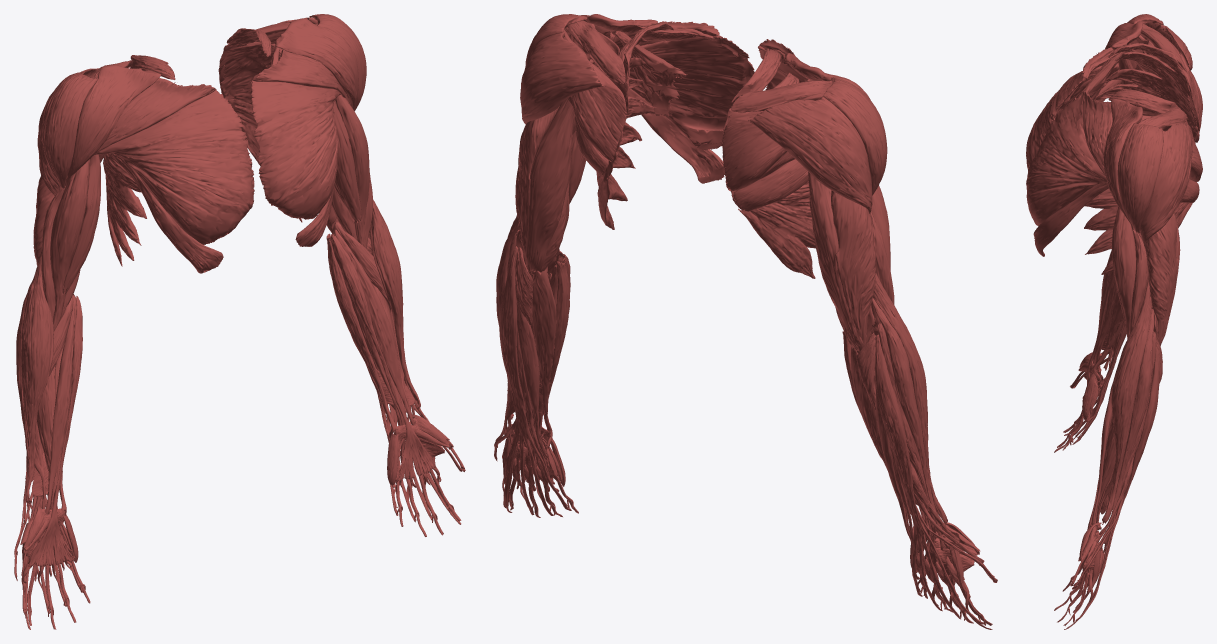
File: upper-limbs.glb
3 views of the same model, side by side, from view 1: azimuth 30°, elevation 25°; view 2: azimuth 150°, elevation 25°; view 3: azimuth 270°, elevation 25° (orthographic). The views are drawn at different scales.
Visible parts, largest first — view 1: FMA79979, FMA79980, FMA38486, FMA34680, FMA13399, FMA34682, FMA13398, FMA34681, FMA37686, FMA34690, FMA38464, FMA38487 (+21 smaller); view 2: FMA79980, FMA34684, FMA13398, FMA37700, FMA34685, FMA37697, FMA38501, FMA38502, FMA13399, FMA32547, FMA32548, FMA37699 (+30 smaller); view 3: FMA79980, FMA13398, FMA38487, FMA34683, FMA34685, FMA37698, FMA13399, FMA37687, FMA34681, FMA79979, FMA38496, FMA34691 (+28 smaller).
Boxes of the visible parts, x1,y1,x2,y2 form: FMA79979: [94, 90, 254, 244]; FMA79980: [250, 80, 340, 219]; FMA38486: [21, 249, 54, 505]; FMA34680: [66, 65, 161, 185]; FMA13399: [219, 28, 317, 222]; FMA34682: [42, 72, 97, 188]; FMA13398: [103, 55, 175, 266]; FMA34681: [275, 18, 358, 108]; FMA37686: [50, 160, 89, 330]; FMA34690: [96, 80, 216, 152]; FMA38464: [330, 233, 435, 482]; FMA38487: [369, 199, 420, 410]; FMA79980: [589, 35, 754, 150]; FMA34684: [748, 95, 872, 213]; FMA13398: [723, 48, 815, 278]; FMA37700: [525, 99, 574, 271]; FMA34685: [520, 32, 609, 124]; FMA37697: [831, 190, 876, 351]; FMA38501: [875, 334, 984, 624]; FMA38502: [499, 246, 571, 515]; FMA13399: [596, 23, 673, 229]; FMA32547: [722, 113, 786, 191]; FMA32548: [563, 29, 626, 161]; FMA37699: [808, 172, 863, 350]; FMA79980: [1026, 95, 1107, 226]; FMA13398: [1095, 43, 1197, 142]; FMA38487: [1102, 279, 1152, 524]; FMA34683: [1117, 123, 1163, 233]; FMA34685: [1140, 123, 1192, 244]; FMA37698: [1145, 213, 1178, 346]; FMA13399: [1084, 89, 1192, 274]; FMA37687: [1112, 207, 1136, 339]; FMA34681: [1103, 99, 1142, 229]; FMA79979: [1026, 63, 1119, 169]; FMA38496: [1103, 309, 1154, 544]; FMA34691: [1082, 90, 1112, 175].
Bounding box in the file's own units: 0.6391 × 0.6896 × 0.236.
